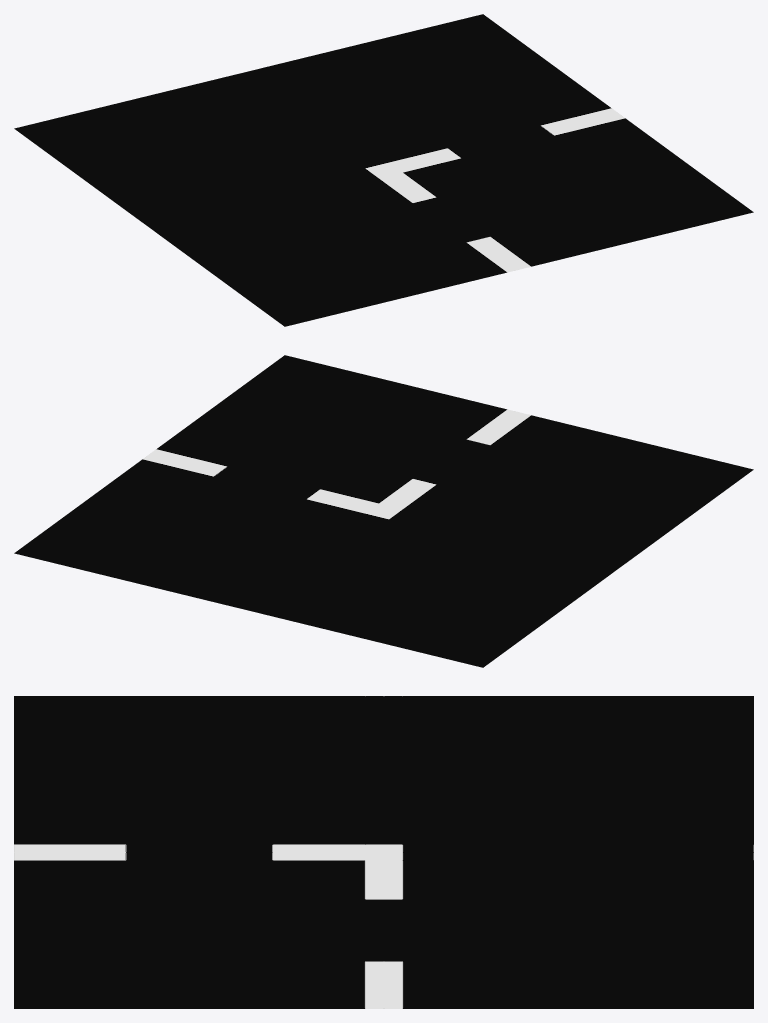
The model's file is roadtest1.fbx.
3 views of the same model, one above another, from view 1: azimuth 30°, elevation 25°; view 2: azimuth 150°, elevation 25°; view 3: azimuth 270°, elevation 25° (orthographic). The views are drawn at different scales.
Parts seen in each view (by area): view 1: 평면; view 2: 평면; view 3: 평면.
Boxes of the visible parts, <box> form: 평면: <box>14,14,753,326</box>; 평면: <box>14,355,753,667</box>; 평면: <box>14,696,753,1008</box>.
Bounding box in the file's own units: 200 × 3.26e-05 × 200.
Materials: 1 (1 with a texture image).
